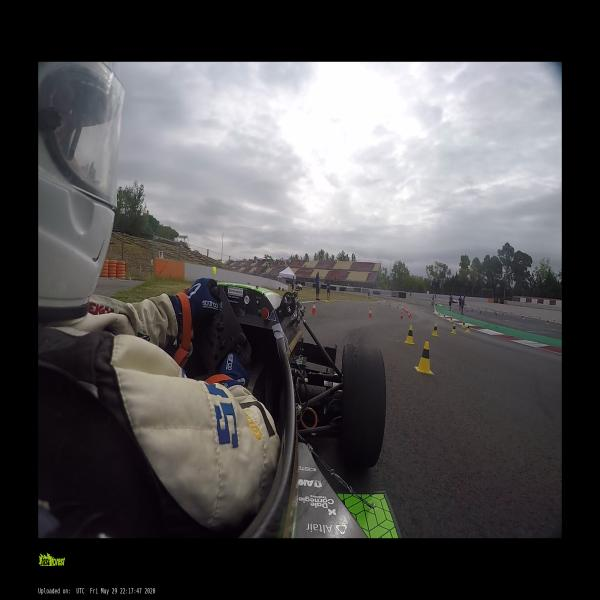orange_cone: (309, 302, 316, 314), (366, 309, 372, 318), (407, 312, 411, 318), (400, 314, 403, 320)
yellow_cone: (414, 341, 434, 375), (404, 325, 414, 345), (431, 323, 439, 337), (451, 324, 456, 334), (464, 324, 470, 332), (449, 316, 453, 322), (462, 321, 465, 328), (442, 314, 445, 320), (432, 309, 435, 314), (438, 311, 440, 317), (422, 308, 424, 311)
